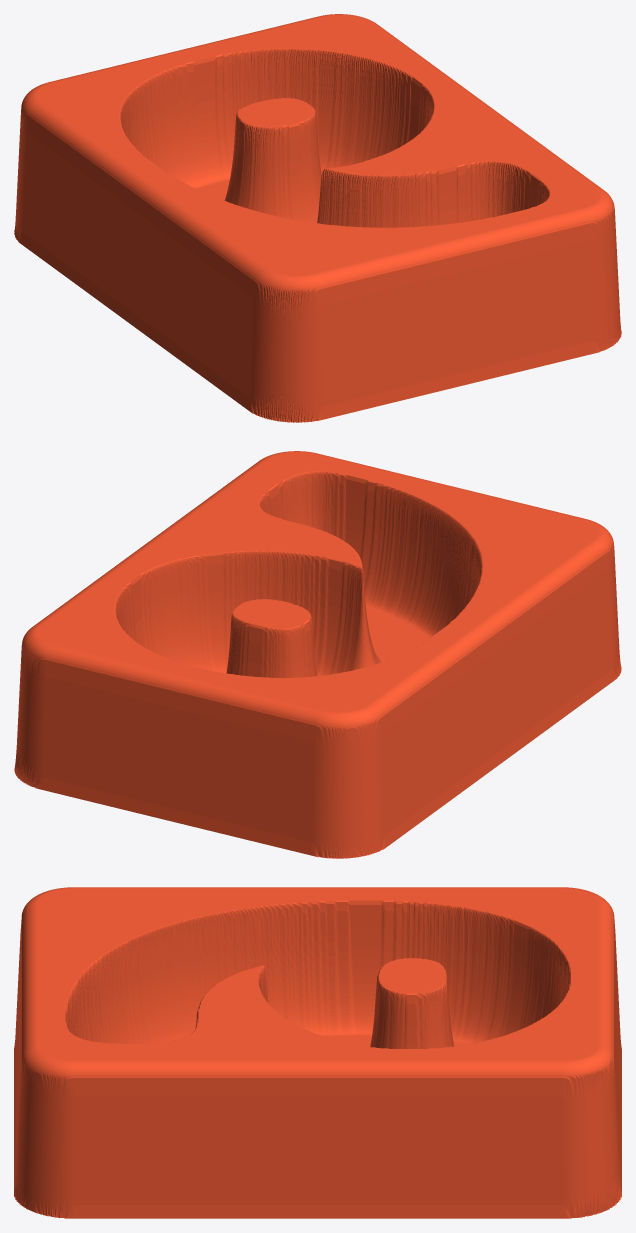
File: mold.glb
The picture shows the model from 3 angles, top to bottom: view 1: azimuth 30°, elevation 25°; view 2: azimuth 150°, elevation 25°; view 3: azimuth 270°, elevation 25°; orthographic projection. The views are drawn at different scales.
Parts seen in each view (by area): view 1: geometry_0; view 2: geometry_0; view 3: geometry_0.
Boxes of the visible parts, x1,y1,x2,y2 form: geometry_0: (14,14,621,422); geometry_0: (14,451,621,858); geometry_0: (14,887,621,1218).
Size of the model in its own units: 0.069 by 0.0248 by 0.0924.
